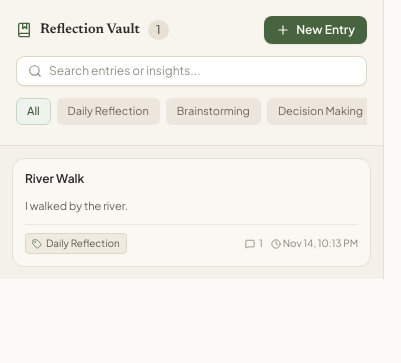
HistorySidebar › distinguishes an empty vault from an empty filter result
In the field with placeholder "Search entries or insights...": (192, 71) [16,56,367,86], type "zzzz"
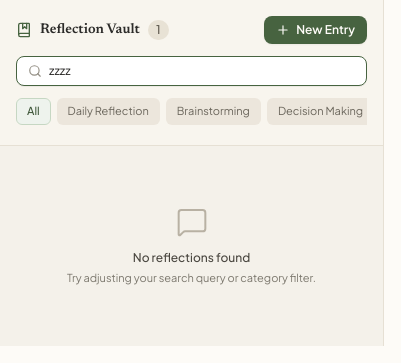
Result: the text "Try adjusting your search query or category filter." is shown at [67,270,316,284]
